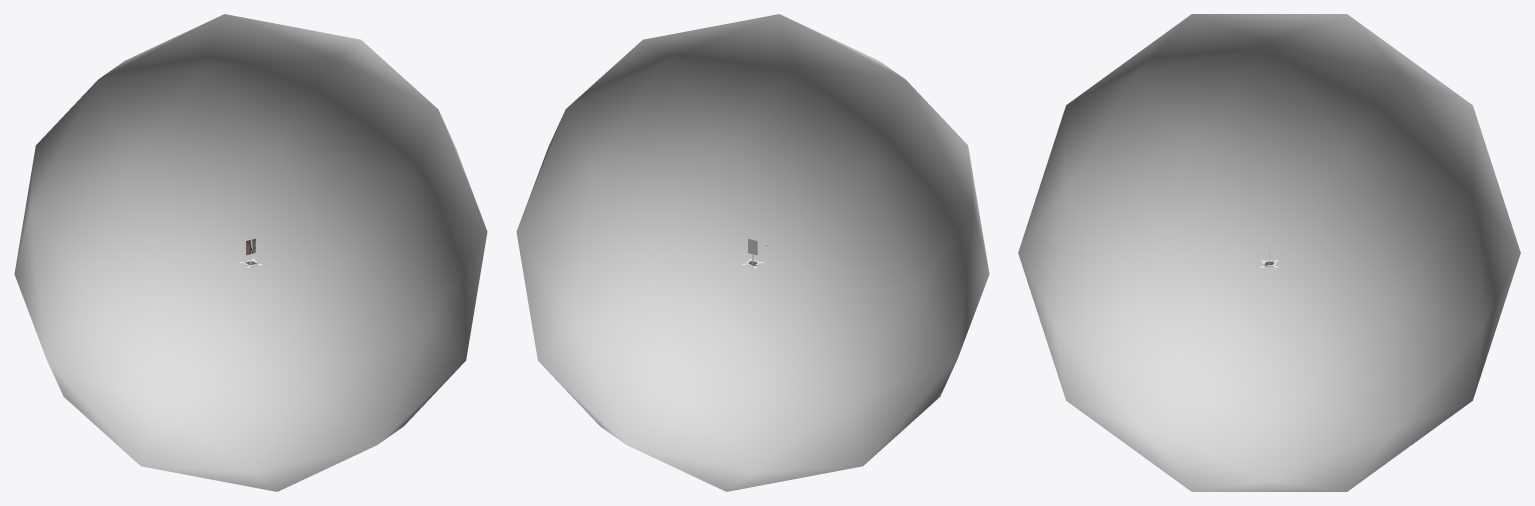
Rendered from augmented_reality_photo.gltf.
The picture shows the model from 3 angles, left to right: view 1: azimuth 30°, elevation 25°; view 2: azimuth 150°, elevation 25°; view 3: azimuth 270°, elevation 25°; orthographic projection. The views are drawn at different scales.
Visible parts, largest first — view 1: Icosphere; view 2: Icosphere; view 3: Icosphere.
Part boxes in pixels (x1,y1,x2,y2): Icosphere: (14, 14, 487, 491); Icosphere: (516, 14, 989, 491); Icosphere: (1018, 14, 1520, 491).
Bounding box in the file's own units: 34.92 × 36.72 × 36.72.
Materials: 12 (4 with a texture image).
